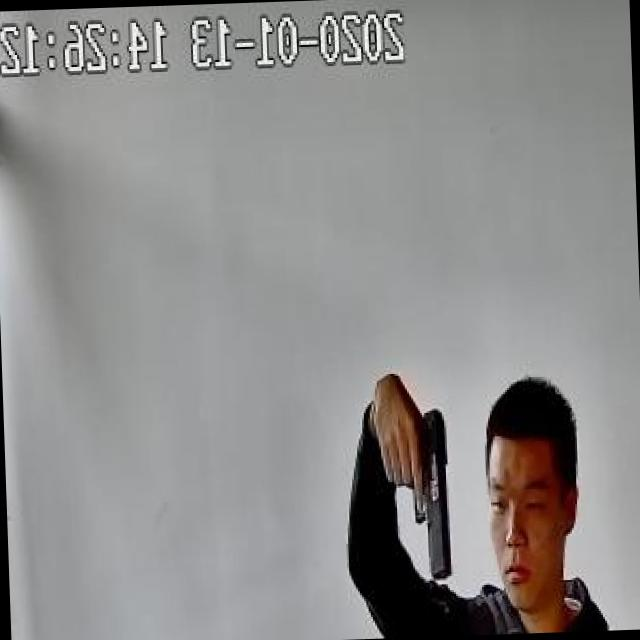Guns: (392, 398, 462, 582)
